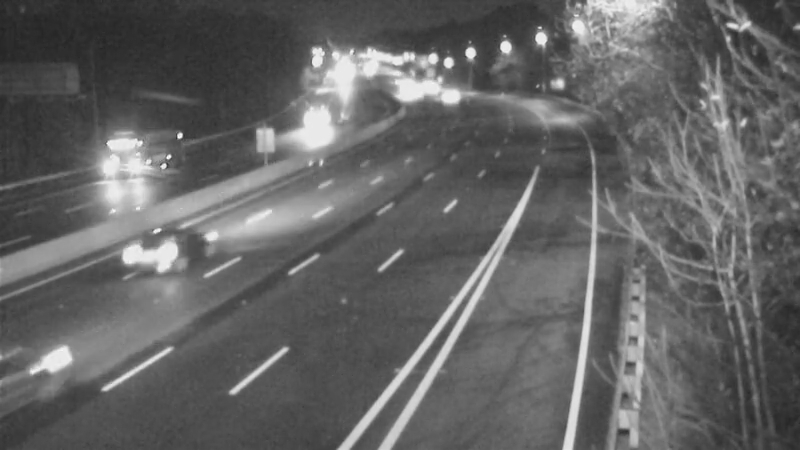vehicle: (1, 323, 95, 433), (103, 203, 183, 283), (93, 132, 173, 212), (422, 68, 472, 118), (287, 93, 337, 143)
